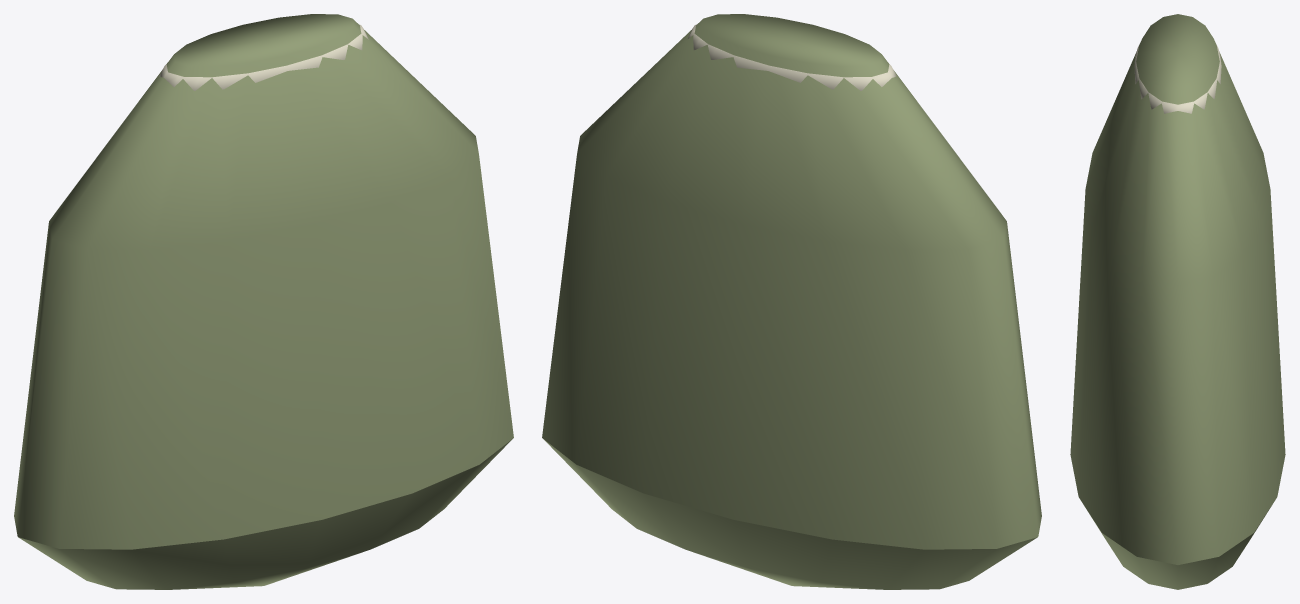
Rendered from scavengers-loot-library-pigment-pouch-47197414__2625.glb.
The picture shows the model from 3 angles, left to right: view 1: azimuth 30°, elevation 25°; view 2: azimuth 150°, elevation 25°; view 3: azimuth 270°, elevation 25°; orthographic projection. The views are drawn at different scales.
Visible parts, largest first — view 1: pigment-pouch; view 2: pigment-pouch; view 3: pigment-pouch.
Part boxes in pixels (x1=…): pigment-pouch: x1=14, y1=14, x2=513, y2=589; pigment-pouch: x1=542, y1=14, x2=1041, y2=589; pigment-pouch: x1=1070, y1=14, x2=1285, y2=589.
Size of the model in its own units: 0.085 by 0.09 by 0.035.
